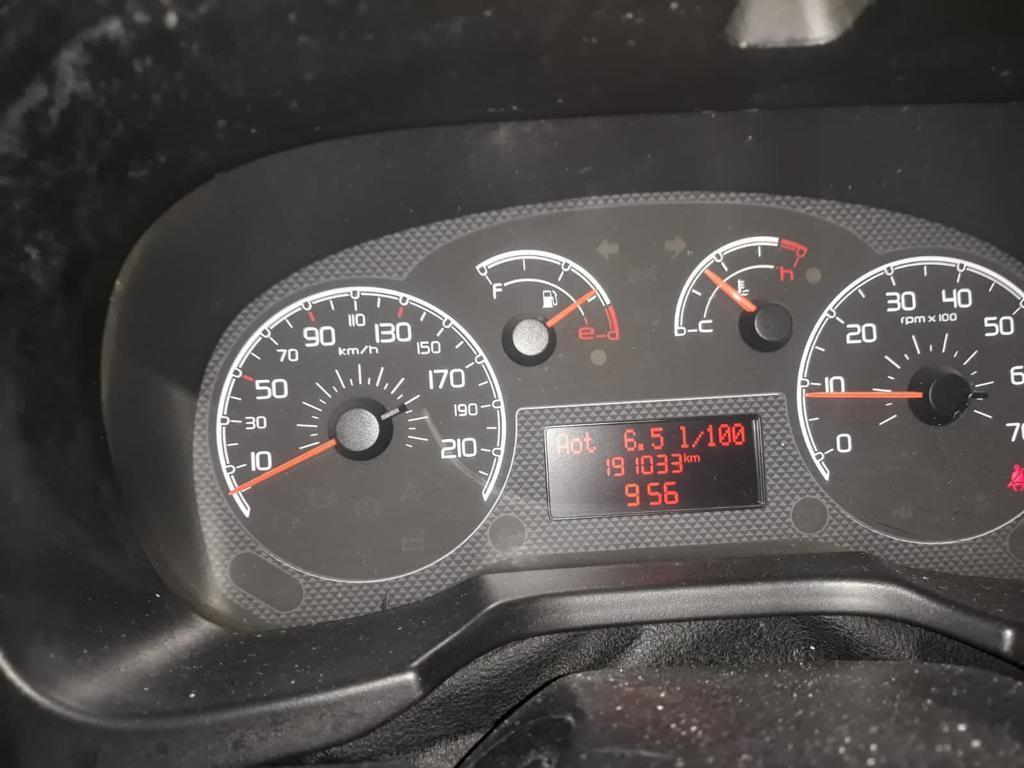,: (637, 440, 645, 451)
0: (640, 453, 654, 477), (731, 422, 745, 446), (718, 422, 731, 447)
1: (705, 423, 716, 449), (633, 455, 639, 475), (605, 456, 610, 478)
3: (655, 452, 668, 474), (670, 452, 682, 474)
5: (644, 480, 661, 507), (650, 425, 664, 450)
6: (663, 480, 679, 505), (623, 428, 636, 452)
9: (622, 481, 640, 509), (611, 455, 625, 477)
X: (554, 432, 569, 456), (678, 420, 689, 451), (583, 430, 597, 454), (691, 429, 704, 449), (570, 437, 582, 455), (690, 453, 701, 464), (683, 451, 690, 464)
odometer: (538, 408, 768, 523)
